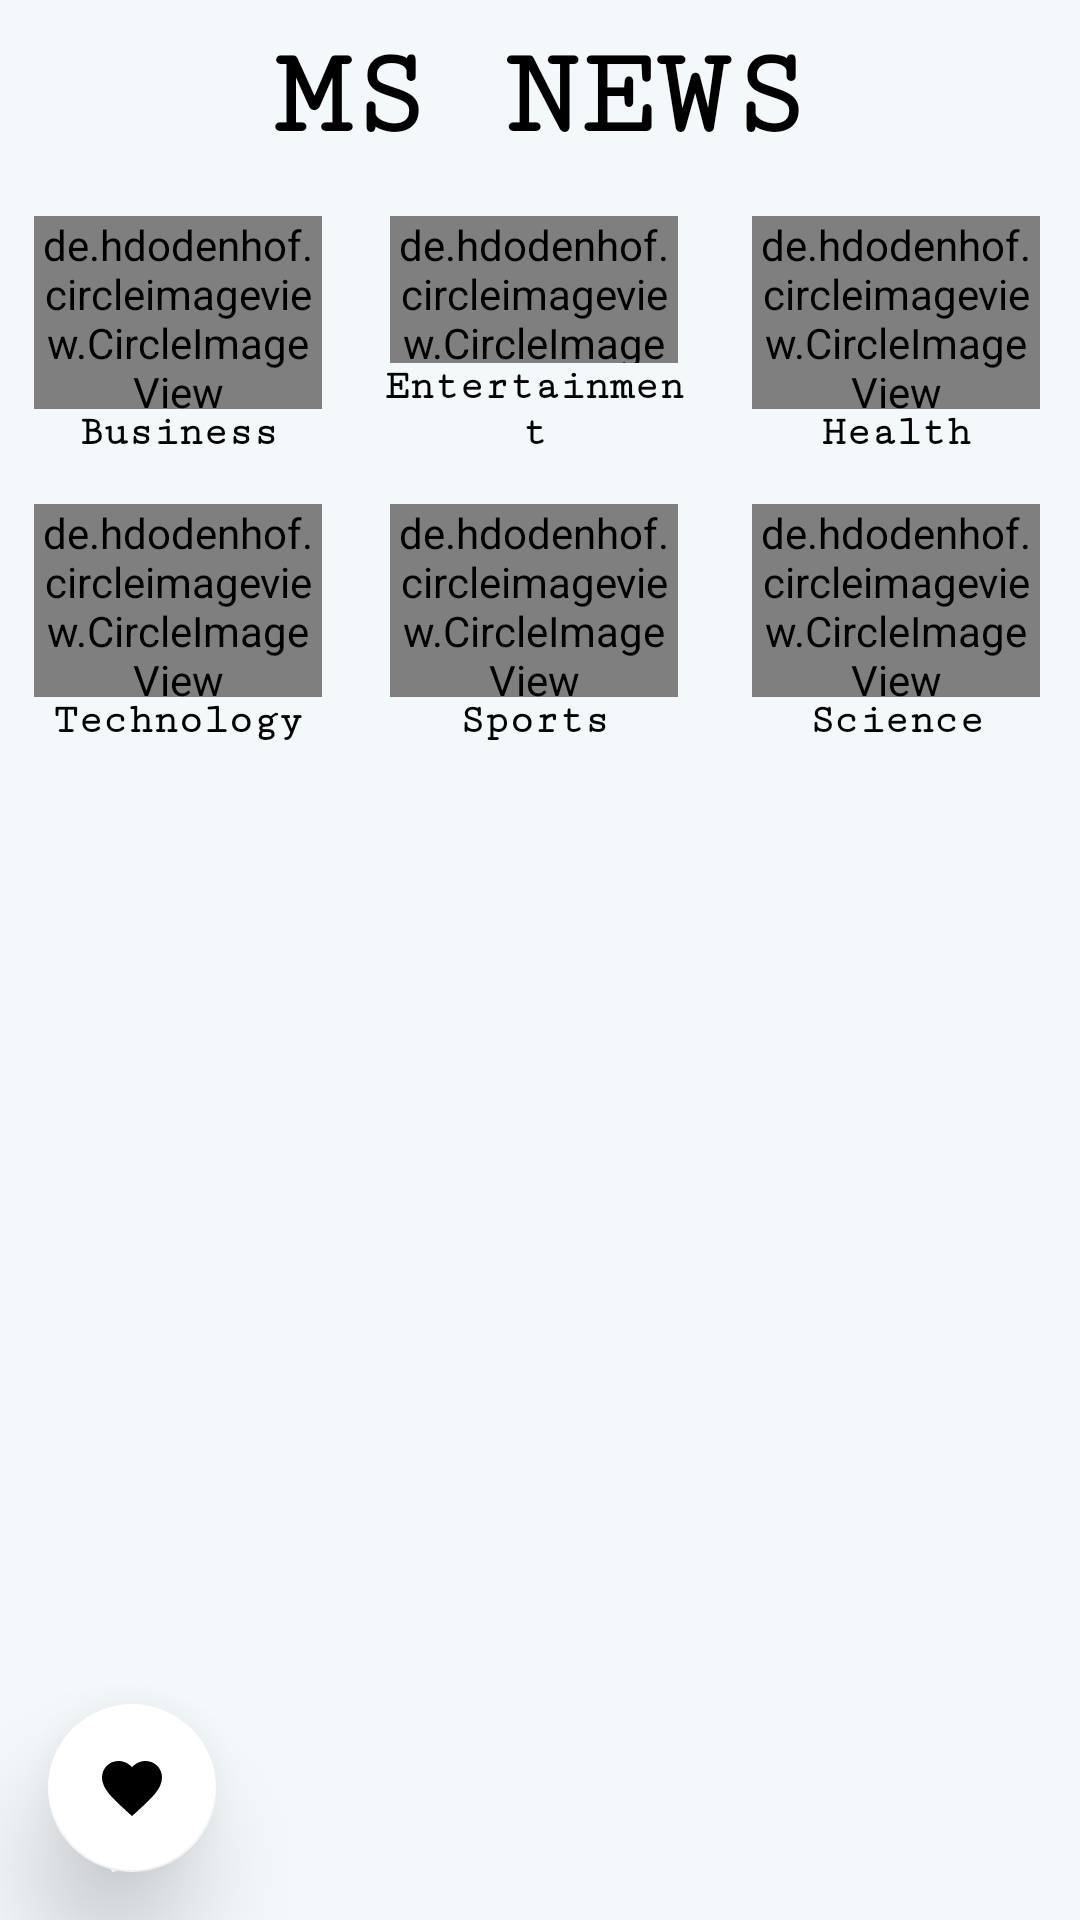

Icon click points for this 1080w x 1920h phone screenshot, format (x=x, y=y):
Favorites Page: (x=132, y=1788)
